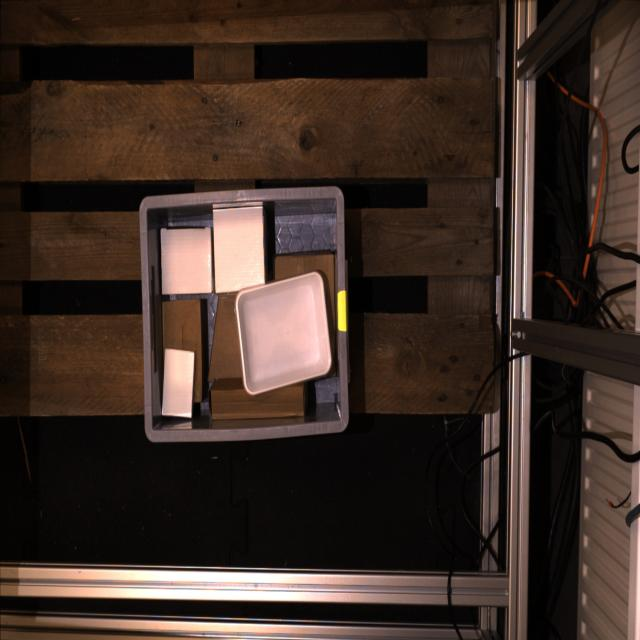CardboardBox: (270, 253, 336, 362), (213, 204, 265, 292), (162, 300, 204, 403), (210, 378, 306, 420), (160, 229, 213, 293), (209, 293, 242, 380), (162, 350, 195, 420)
PlasticContainer: (235, 272, 332, 395)
